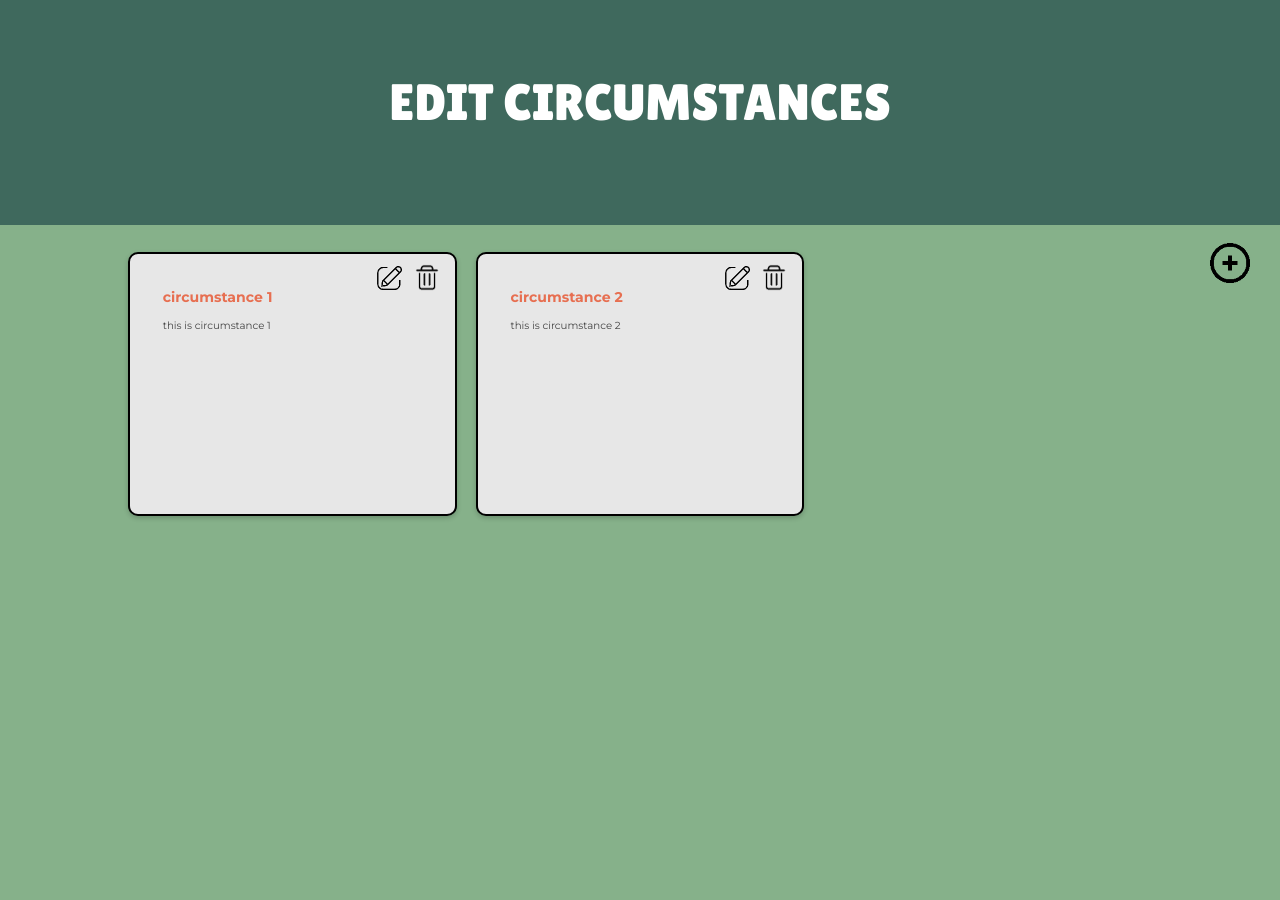
Scenario: editing circumstance
Expected: the heading "circumstance 1" is shown, x1=163 y1=288 x2=272 y2=306
Click the 1st picture titled "Edit" at (389, 278), box x1=373 y1=262 x2=405 y2=294
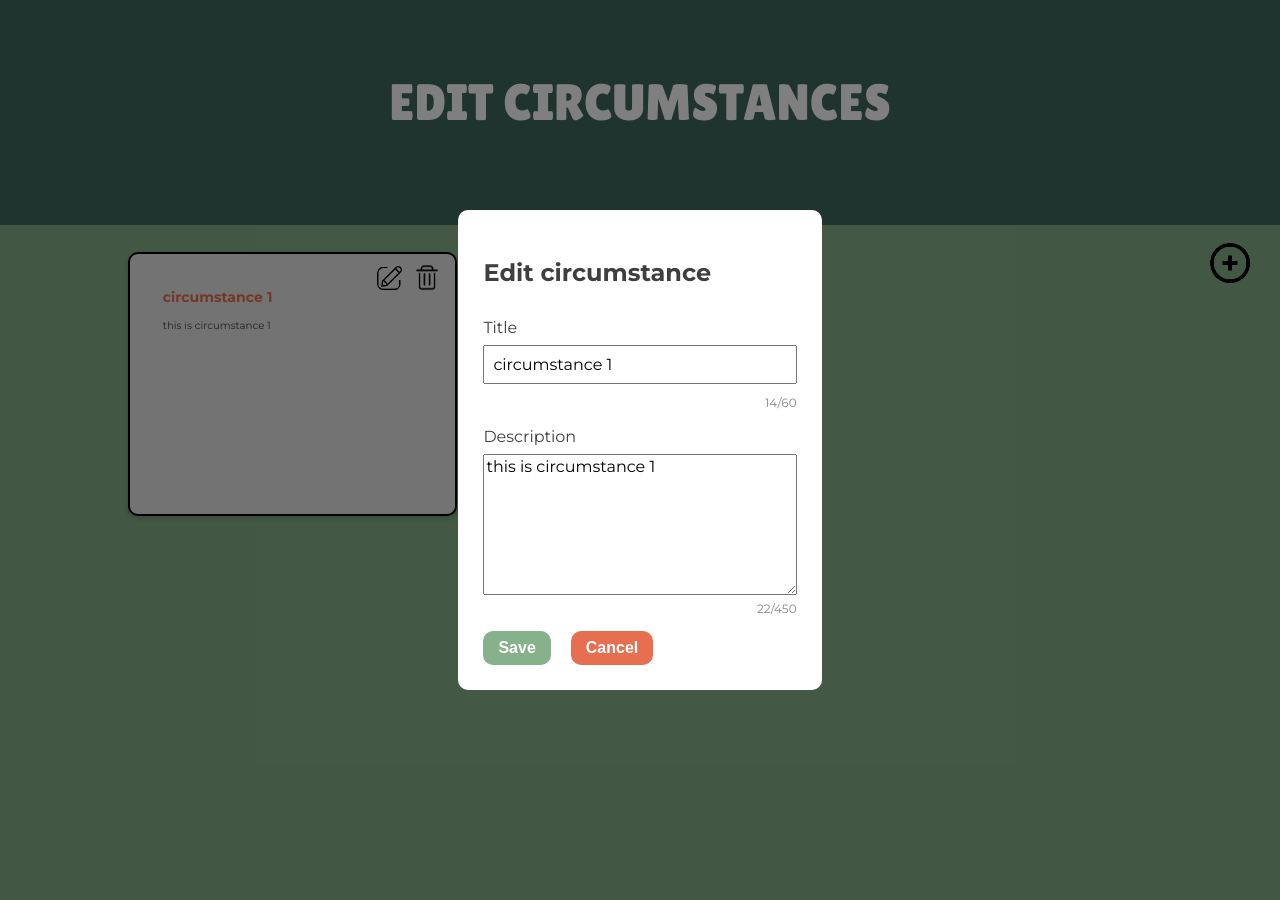
Replace the text in the field labelled "Title" with "Updated Title" at (640, 364), box x1=483 y1=345 x2=797 y2=384
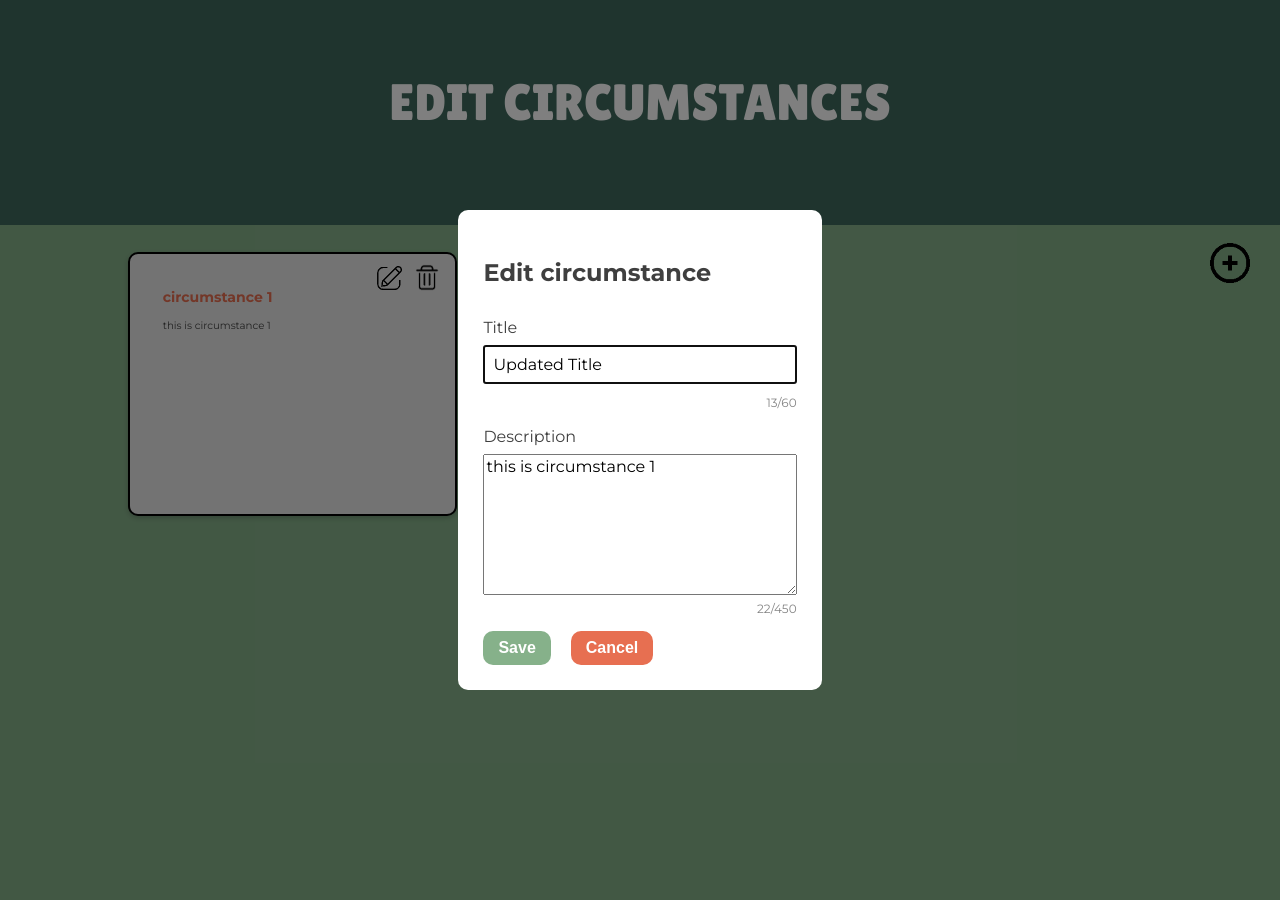
Replace the text in the text box labelled "Description" with "Updated Description" at (640, 524), box x1=483 y1=454 x2=797 y2=595
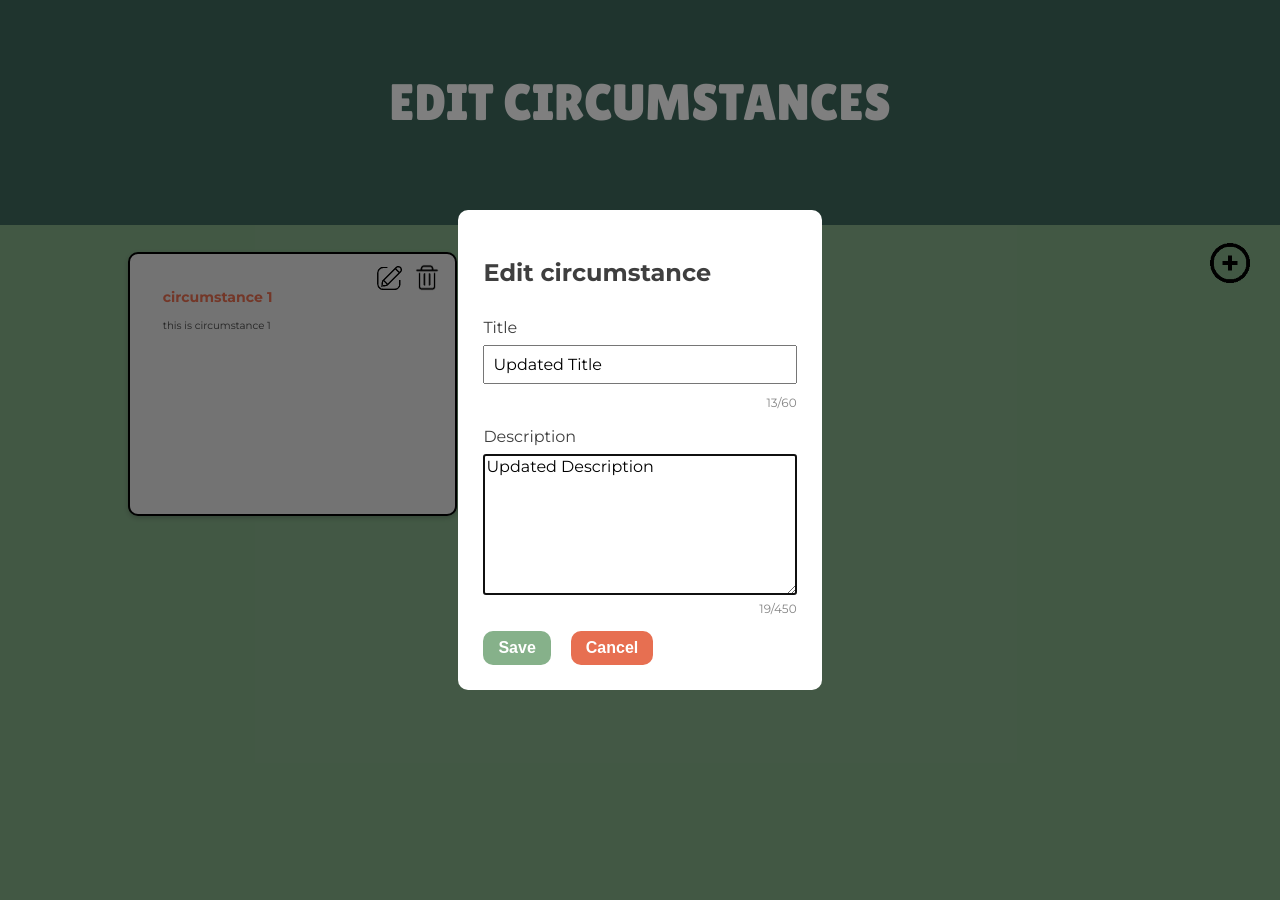
Click the button "Save" at (517, 648), box x1=483 y1=631 x2=551 y2=665
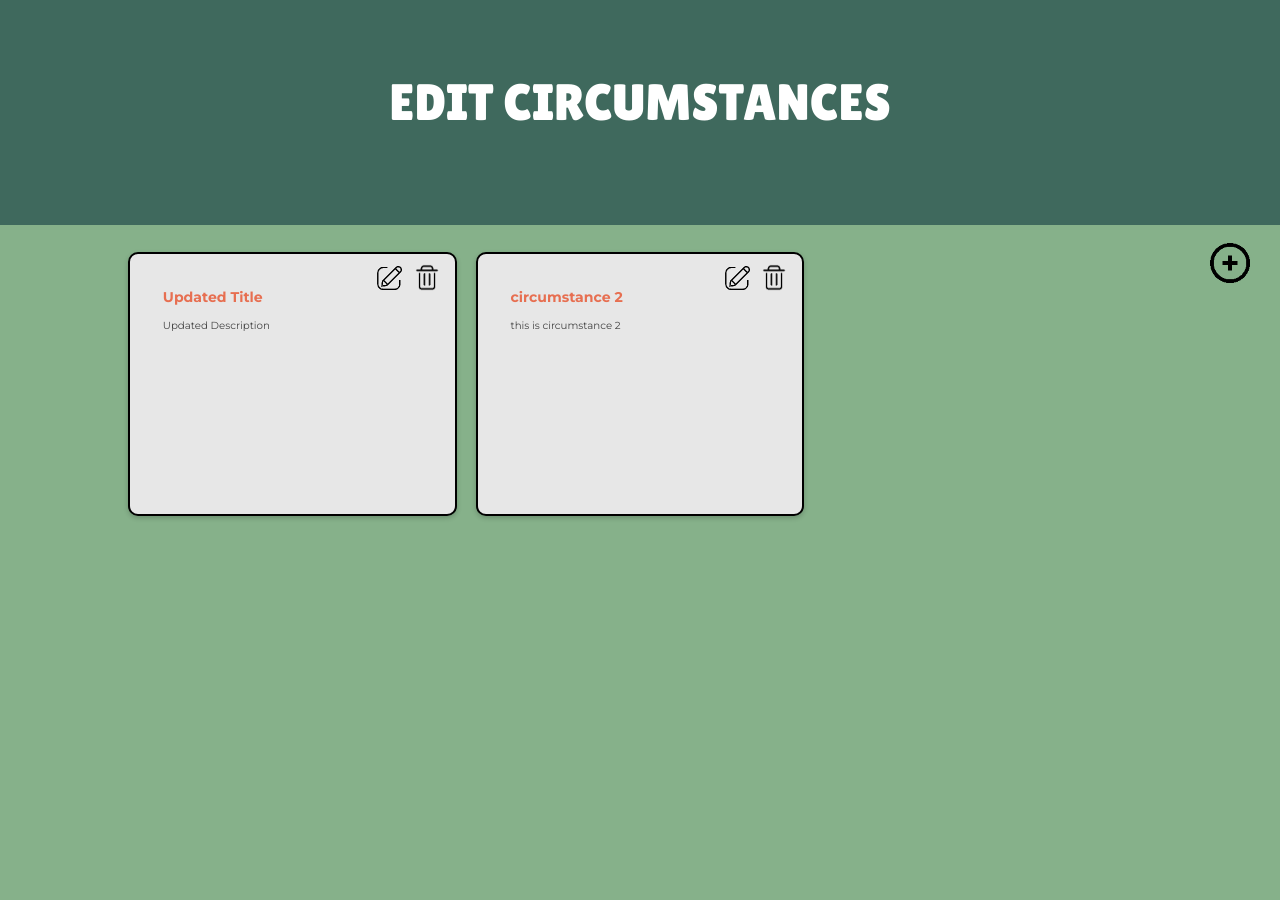
Now the heading "Updated Title" is shown, box x1=163 y1=288 x2=263 y2=306
Now the text "Updated Description" is shown, box x1=163 y1=319 x2=270 y2=332
